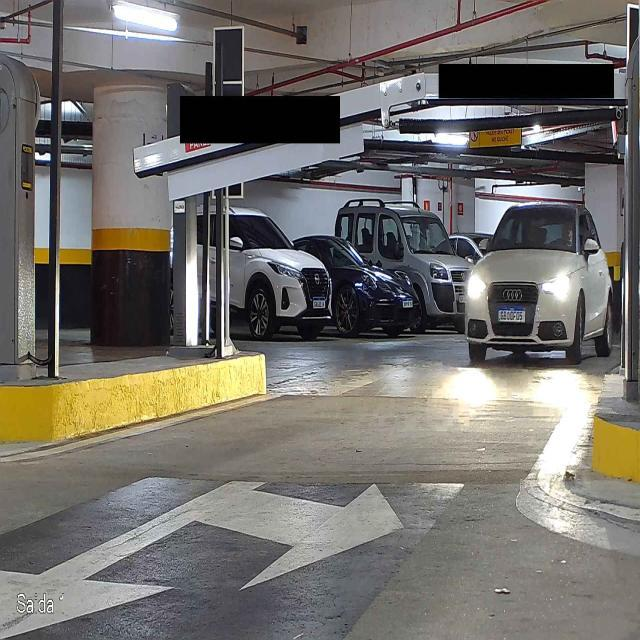mercosul_plate: (495, 304, 527, 324)
